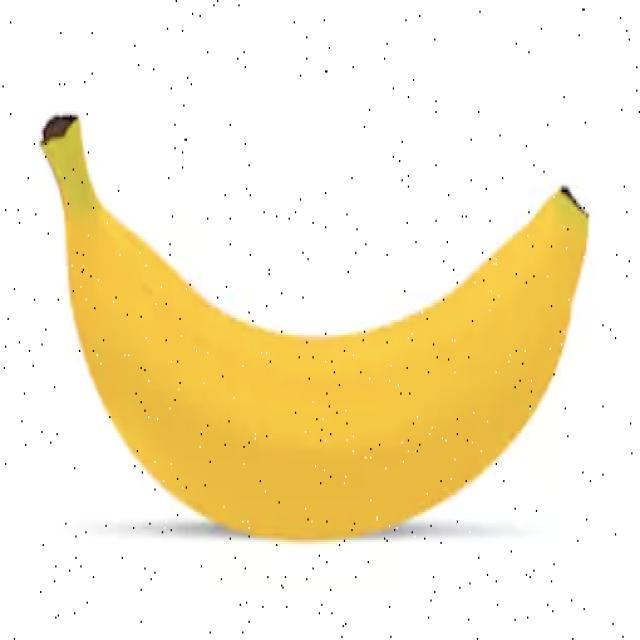Banana: (39, 112, 590, 540)
